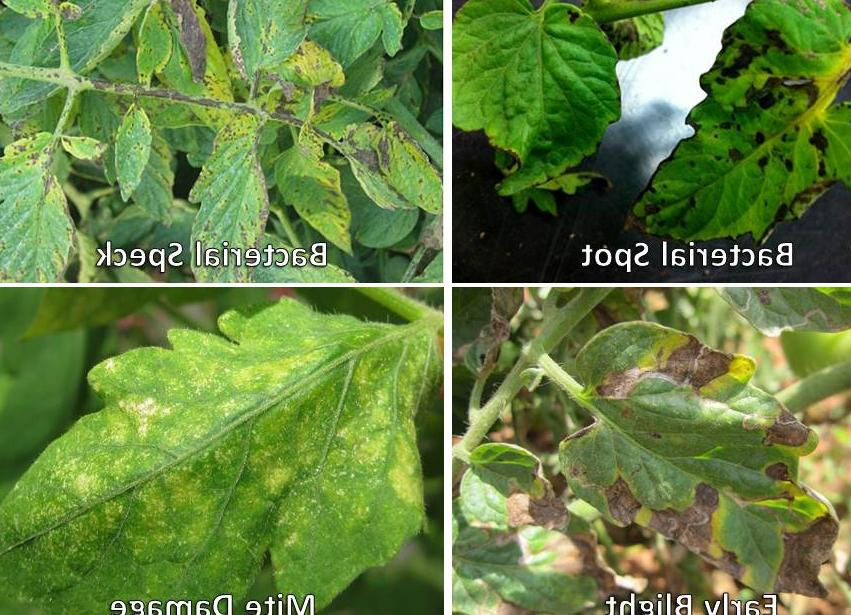Tomato Early blight leaf: (542, 315, 851, 593)
Tomato leaf bacterial spot: (621, 0, 851, 264), (452, 0, 631, 238), (0, 113, 110, 280), (195, 99, 279, 280), (273, 107, 356, 274), (220, 0, 336, 96), (337, 119, 432, 232), (283, 0, 427, 70), (130, 0, 183, 96)
